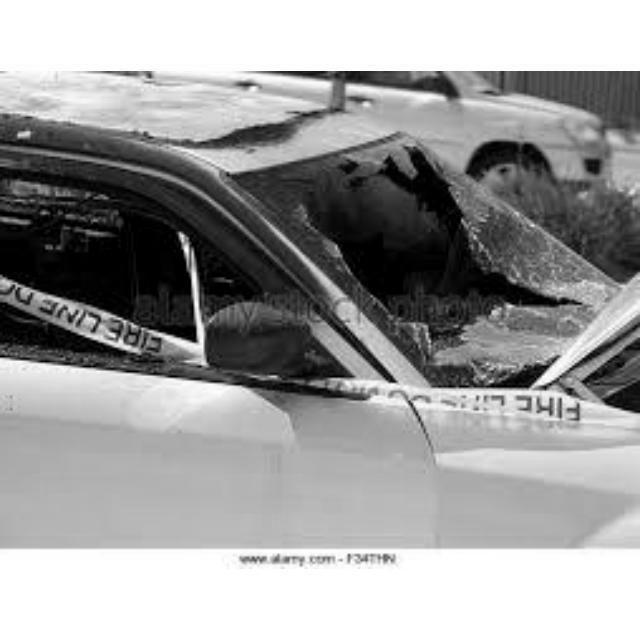Taillight-Damage: (285, 127, 569, 366)
